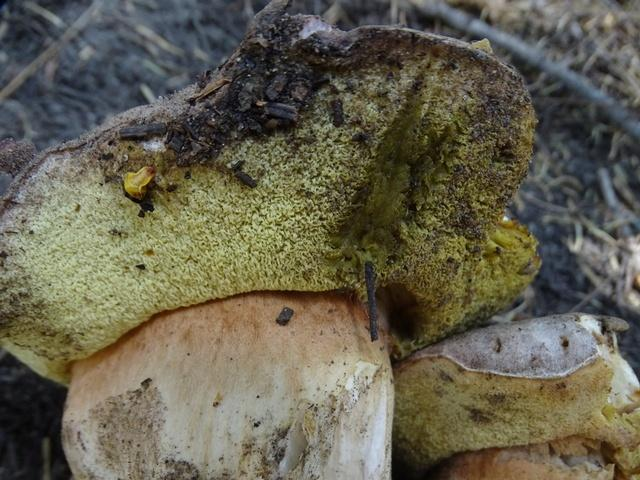Edible Mushroom: (0, 1, 543, 478)
